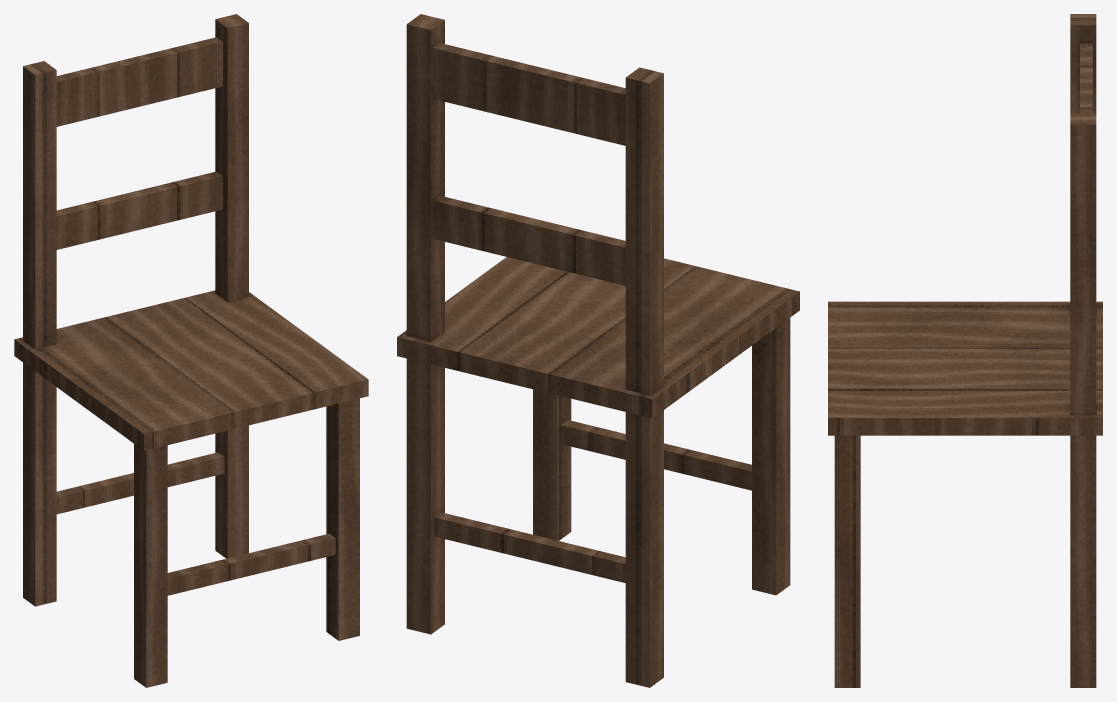
The picture shows the model from 3 angles, left to right: view 1: azimuth 30°, elevation 25°; view 2: azimuth 150°, elevation 25°; view 3: azimuth 270°, elevation 25°; orthographic projection. The views are drawn at different scales.
Visible parts, largest first — view 1: px_chair_wood; view 2: px_chair_wood; view 3: px_chair_wood.
Boxes of the visible parts, left/top/right/bottom form: px_chair_wood: left=14, top=14, right=368, bottom=687; px_chair_wood: left=397, top=14, right=799, bottom=687; px_chair_wood: left=828, top=14, right=1102, bottom=687.
Size of the model in its own units: 0.42 by 0.95 by 0.42.
Materials: 1 (1 with a texture image).
